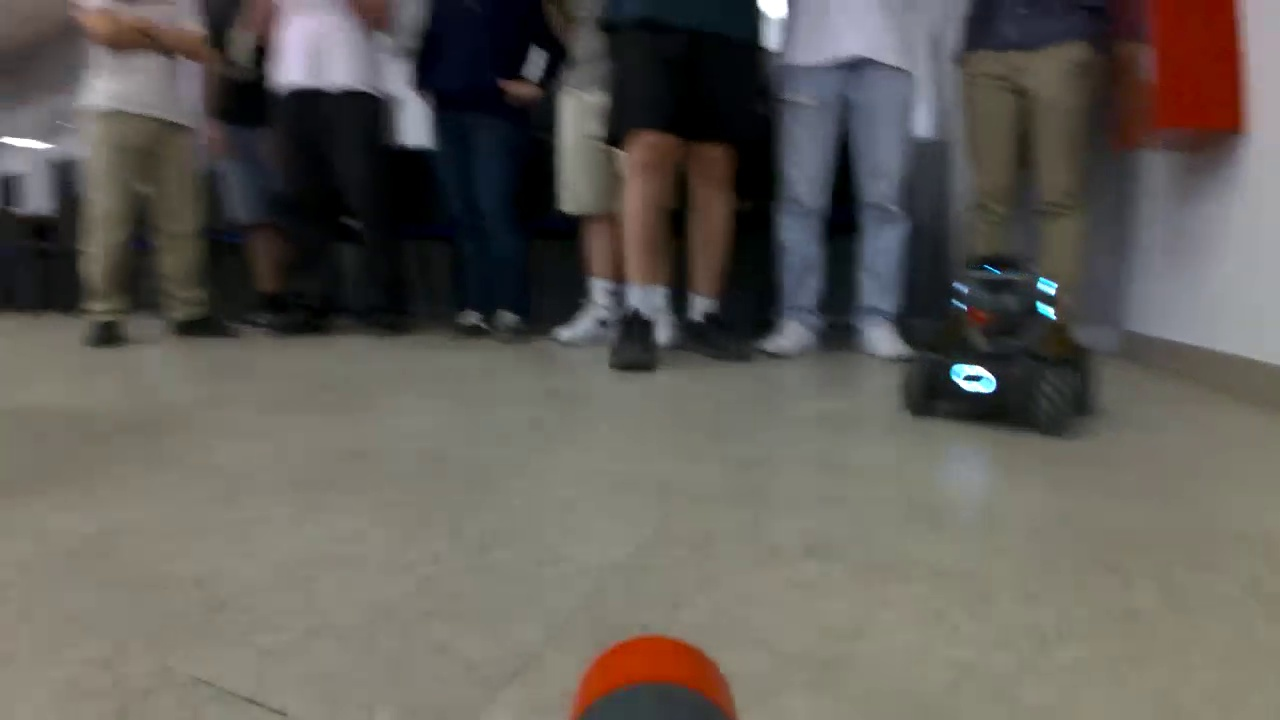robot: (901, 255, 1103, 434)
